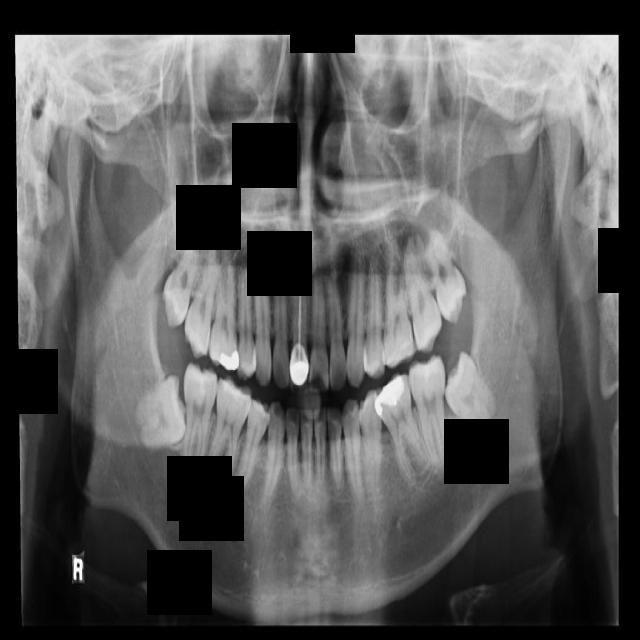3M ESPE Implant: (154, 237, 204, 330)
52: (364, 368, 427, 430), (206, 317, 240, 373), (289, 339, 310, 395)
73: (293, 275, 308, 352), (604, 564, 606, 576)
BioHorizons Implant: (401, 235, 446, 354)
BioLife Implant: (420, 227, 474, 327)
Biomet 3i Implant: (426, 347, 509, 444)
Blue Sky Bio Implant: (407, 353, 453, 468)
Caries: (181, 240, 219, 360)
Implant: (176, 362, 220, 470)
Keystone Dental Implant: (125, 372, 194, 453)
